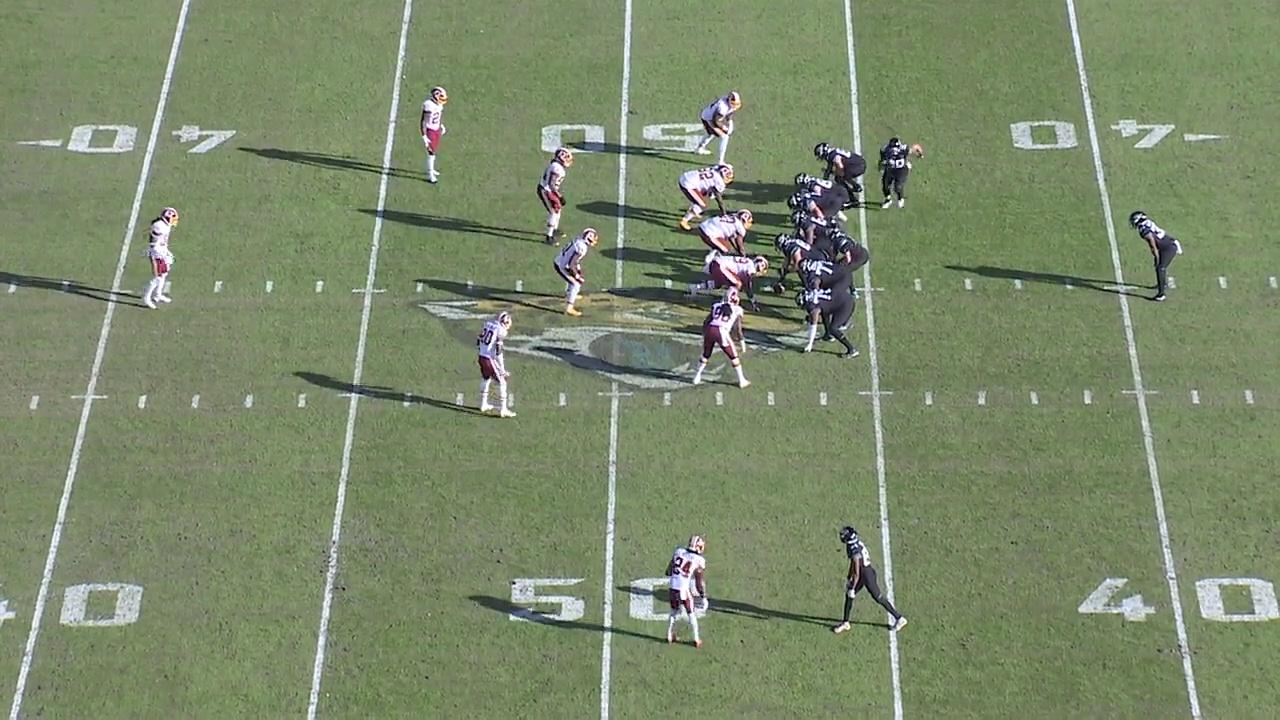defense: (659, 530, 716, 655), (691, 289, 751, 396), (476, 310, 518, 424), (554, 227, 601, 324), (417, 81, 457, 188), (538, 141, 580, 241), (143, 206, 183, 310), (677, 161, 734, 229), (693, 89, 743, 164), (695, 256, 772, 302), (694, 208, 756, 256)
oline: (796, 283, 858, 364), (768, 233, 823, 284), (795, 260, 859, 291), (795, 174, 847, 202), (783, 192, 837, 216), (794, 212, 839, 239)
qb: (824, 225, 873, 275)
skill: (822, 519, 905, 636), (1133, 202, 1178, 308), (871, 133, 926, 208), (813, 139, 869, 190)
